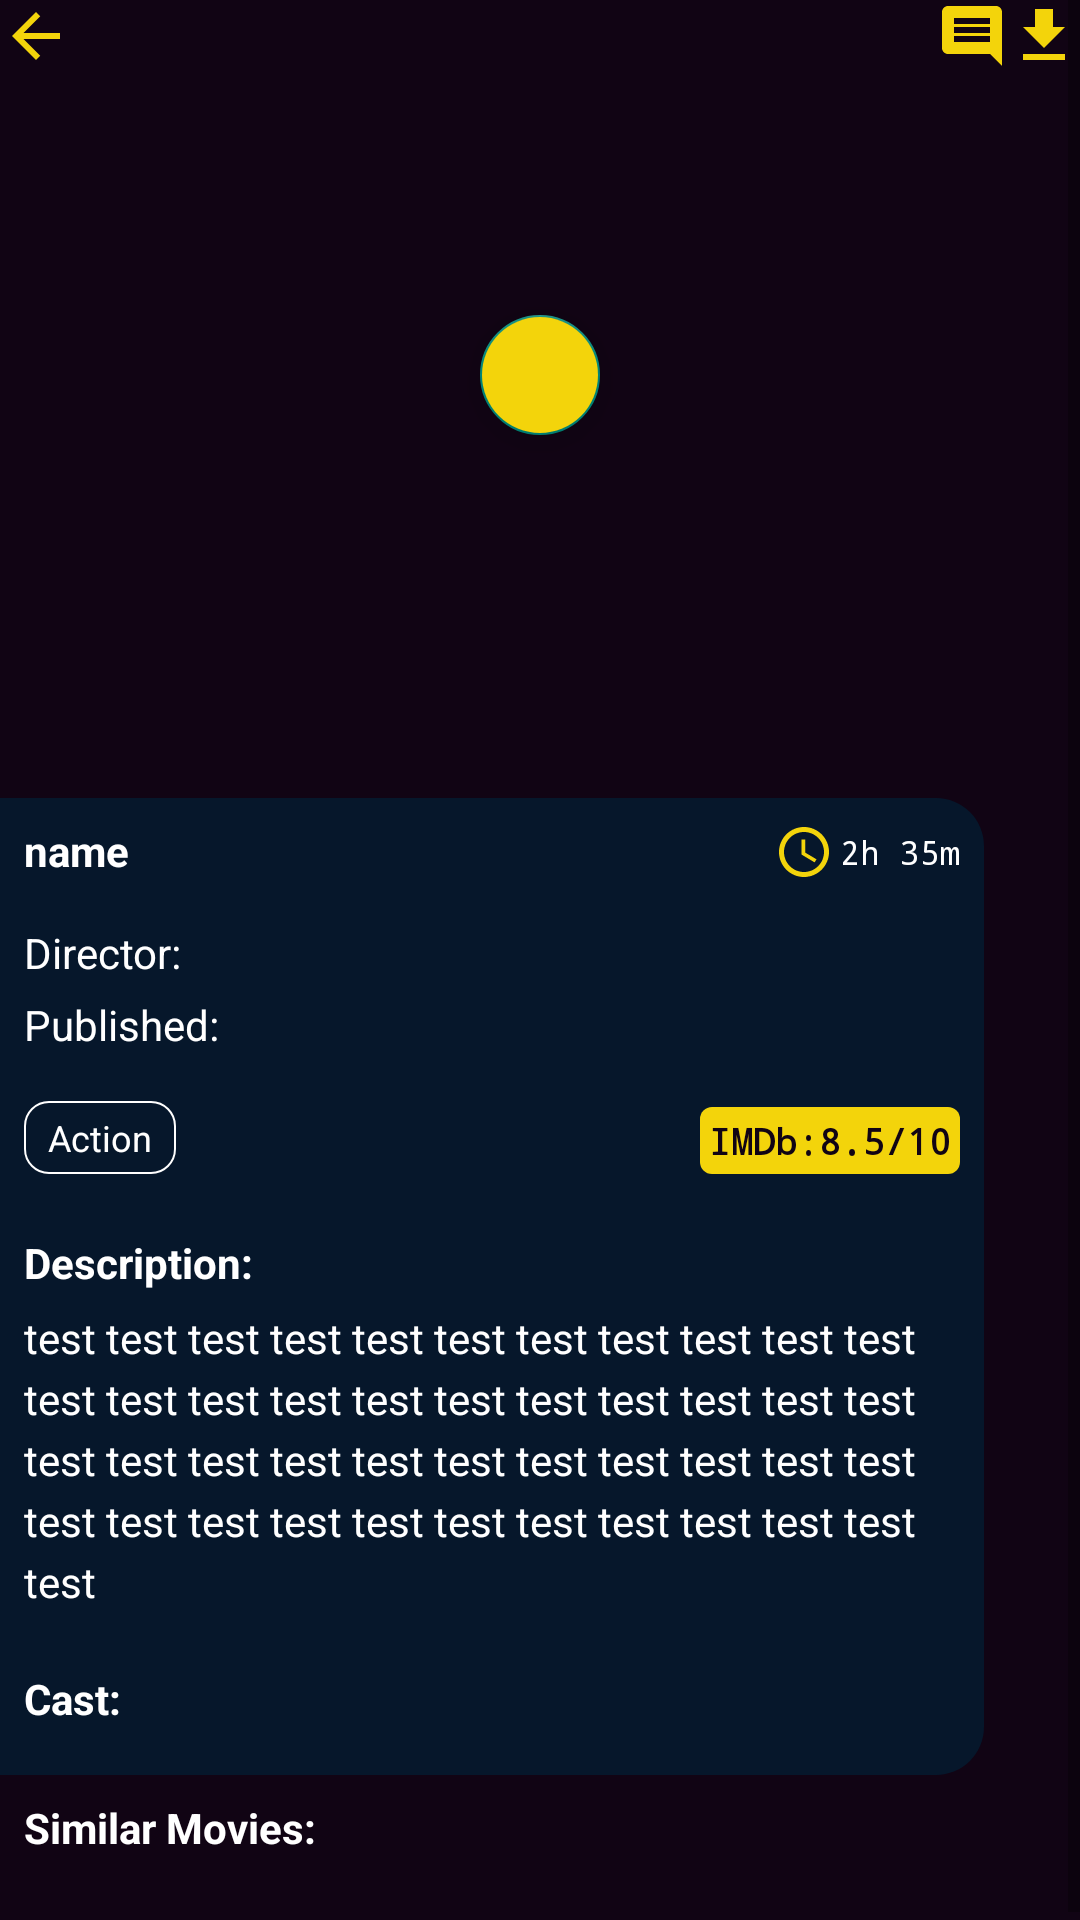

Named icons in this screenshot (1080 x 1920) and their centers, [x,y]:
access time: [804,852]
arrow back: [36,36]
comment: [972,36]
get app: [1044,34]
